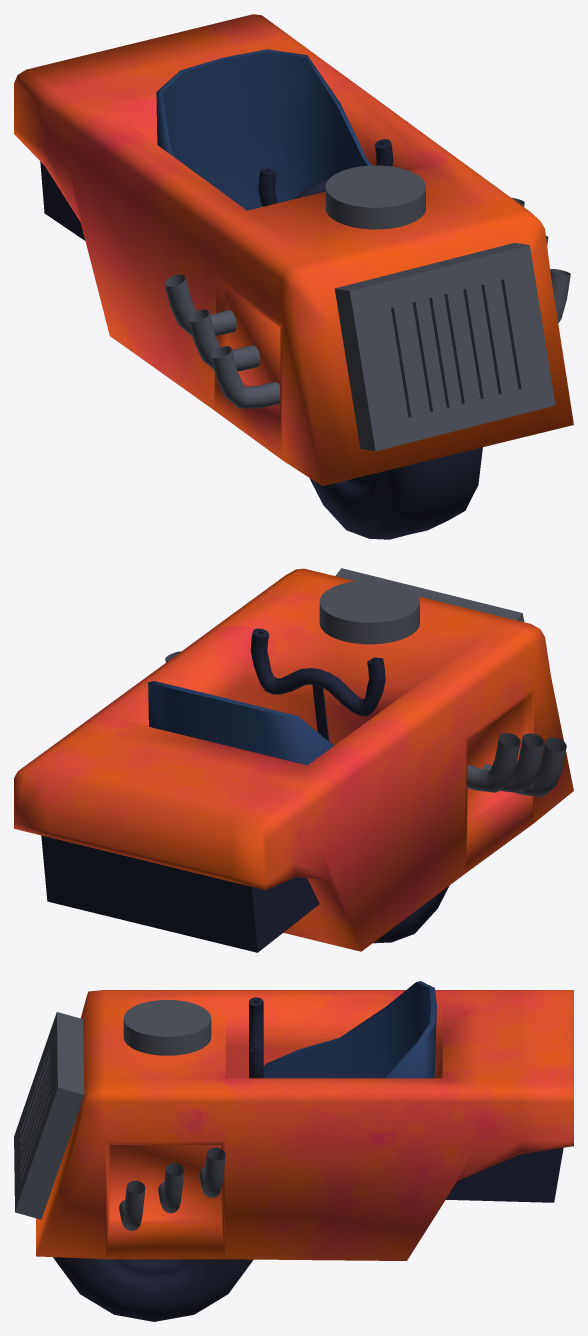
The model's file is pod_back.fbx.
The picture shows the model from 3 angles, top to bottom: view 1: azimuth 30°, elevation 25°; view 2: azimuth 150°, elevation 25°; view 3: azimuth 270°, elevation 25°; orthographic projection. The views are drawn at different scales.
Parts seen in each view (by area): view 1: Cube, Cylinder.002; view 2: Cube, Cylinder.002; view 3: Cube, Cylinder.002.
Boxes of the visible parts, x1,y1,x2,y2 form: Cube: [14, 14, 573, 486]; Cylinder.002: [309, 447, 482, 539]; Cube: [14, 568, 573, 952]; Cylinder.002: [373, 885, 449, 943]; Cube: [14, 981, 573, 1260]; Cylinder.002: [53, 1257, 253, 1321].
Bounding box in the file's own units: 115 × 109 × 180.
4 materials, 4 textured.
